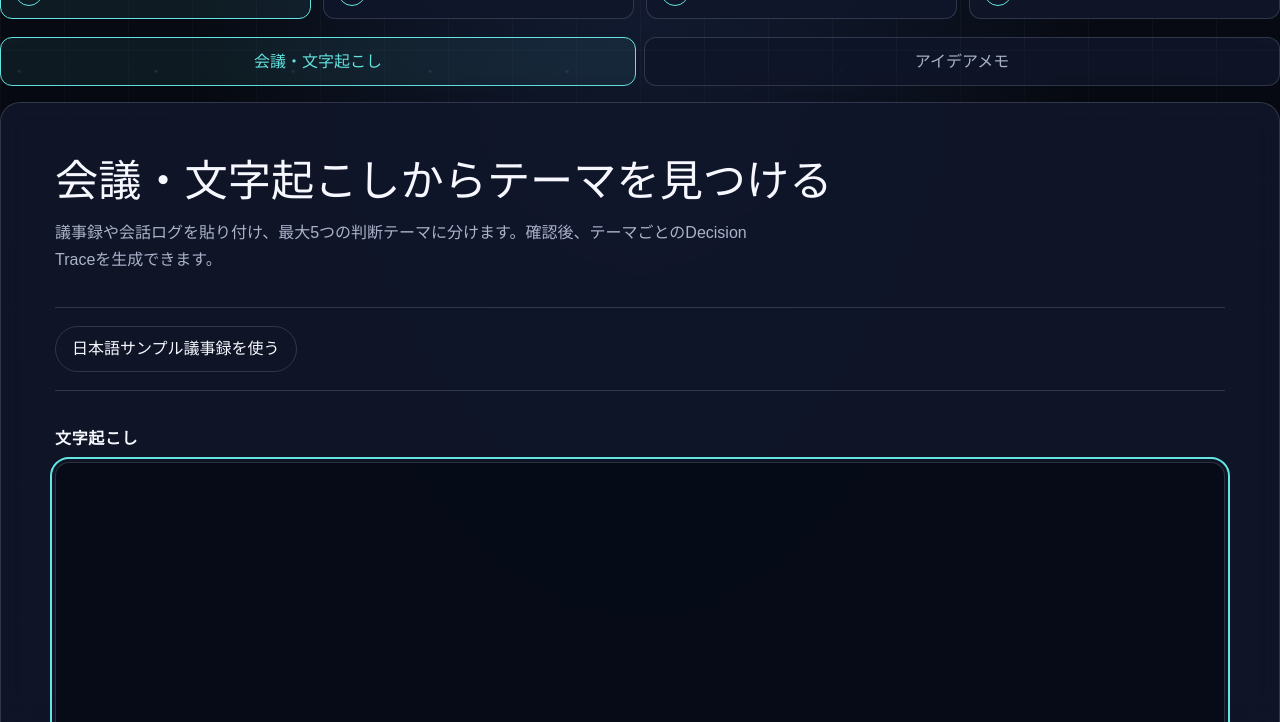
Scenario: DecisionTraceApp › rejects a malformed successful response and preserves the memo for retry
Click the button "アイデアメモ". click: (962, 62)
box: [644,37,1279,86]
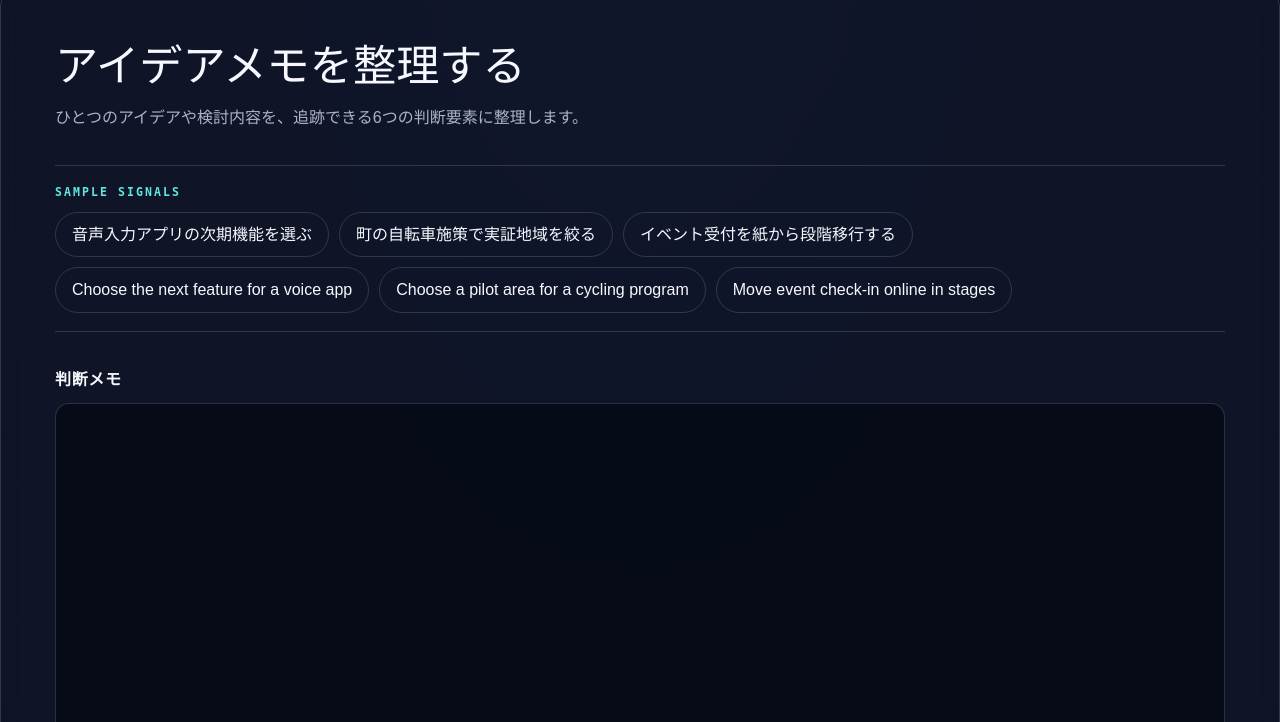
Click the button "町の自転車施策で実証地域を絞る". click: (476, 235)
box: [339,212,613,257]
(page scrolled)
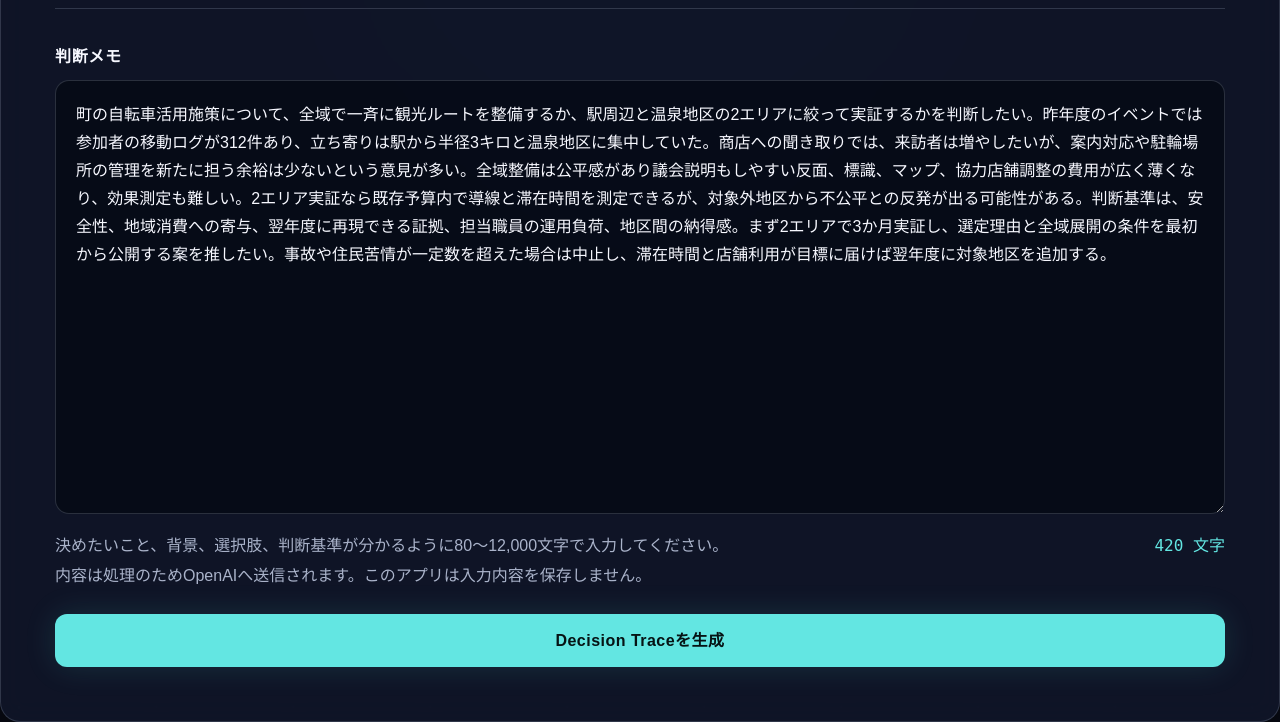
Click the button "Decision Traceを生成". click: (640, 641)
box: [55,614,1225,668]
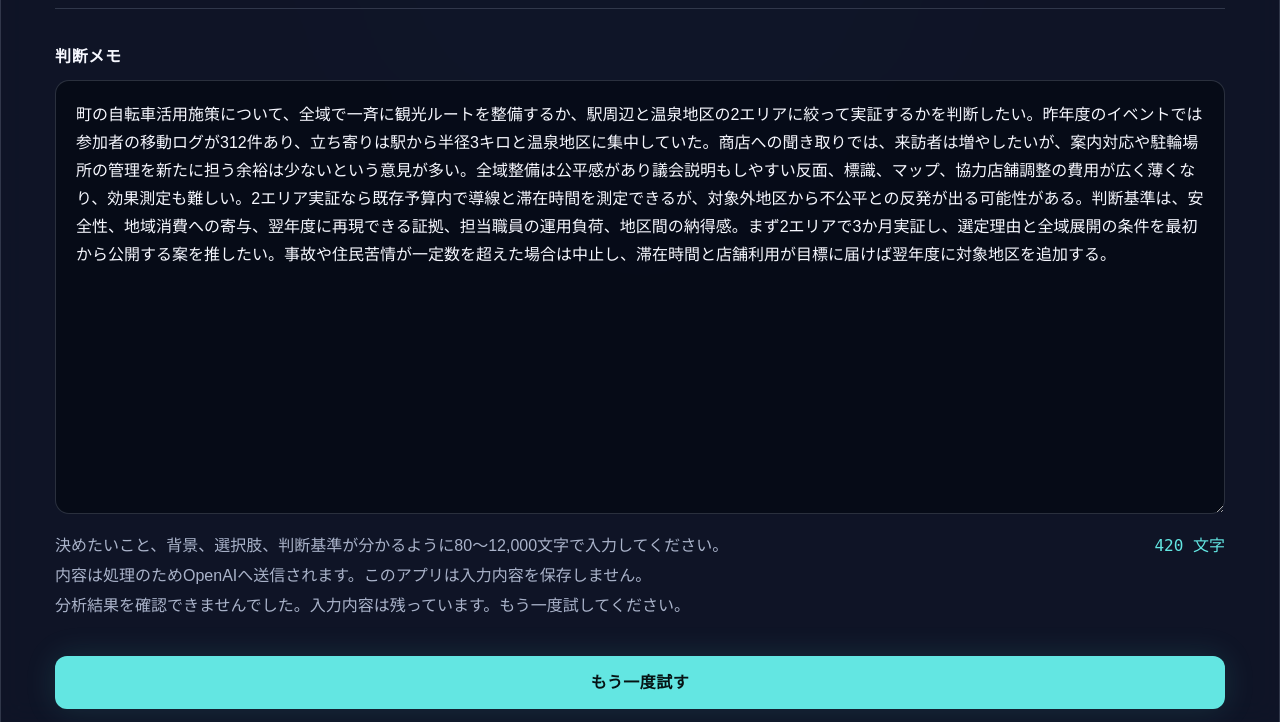
Check: the text box labelled "判断メモ" holds "町の自転車活用施策について、全域で一斉に観光ルートを整備するか、駅周辺と温泉地区の2エリアに絞って実証するかを判断したい。昨年度のイベントでは参加者の移動ログが312件あり、立ち寄りは駅から半径3キロと温泉地区に集中していた。商店への聞き取りでは、来訪者は増やしたいが、案内対応や駐輪場所の管理を新たに担う余裕は少ないと", box [55,80,1225,514]
Check: the message shows "分析結果を確認できませんでした", box [55,597,690,614]
Check: the button "もう一度試す" is shown, box [55,656,1225,709]
